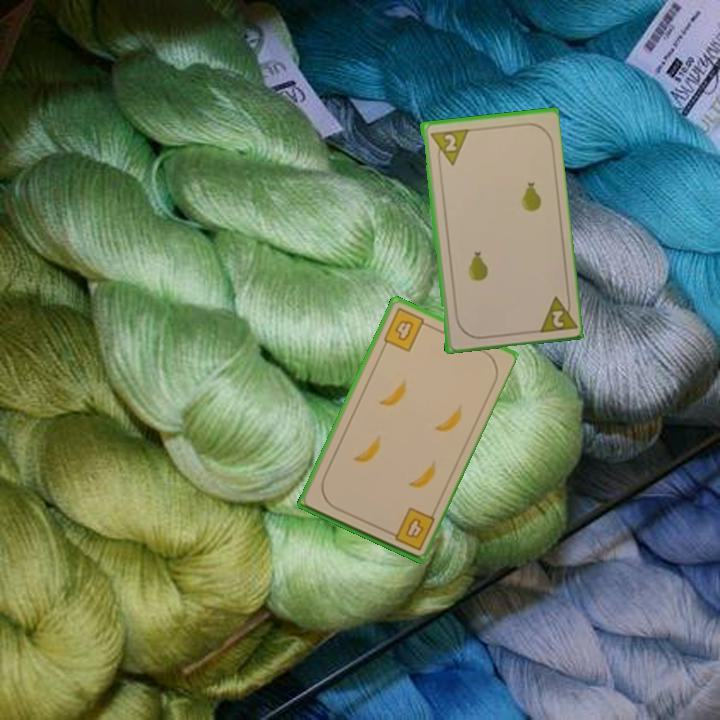2p: (533, 290, 577, 335), (426, 125, 470, 169)
4b: (379, 304, 432, 355), (383, 504, 437, 553)
